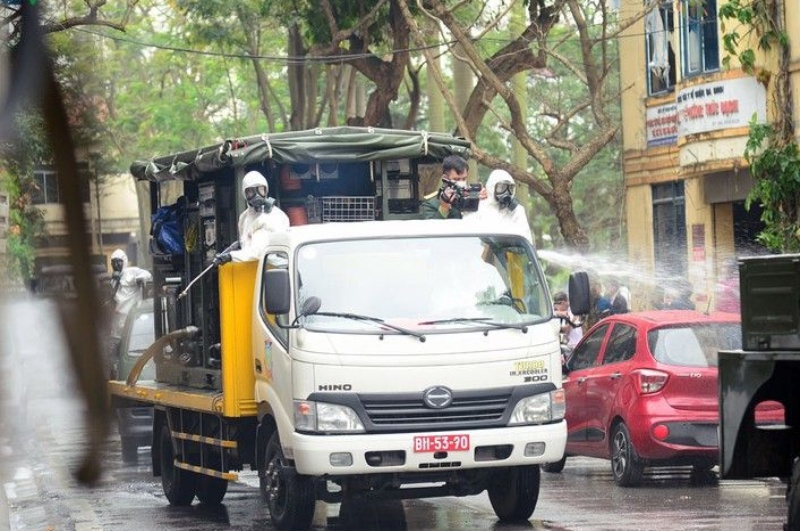plate: (412, 435, 472, 453)
